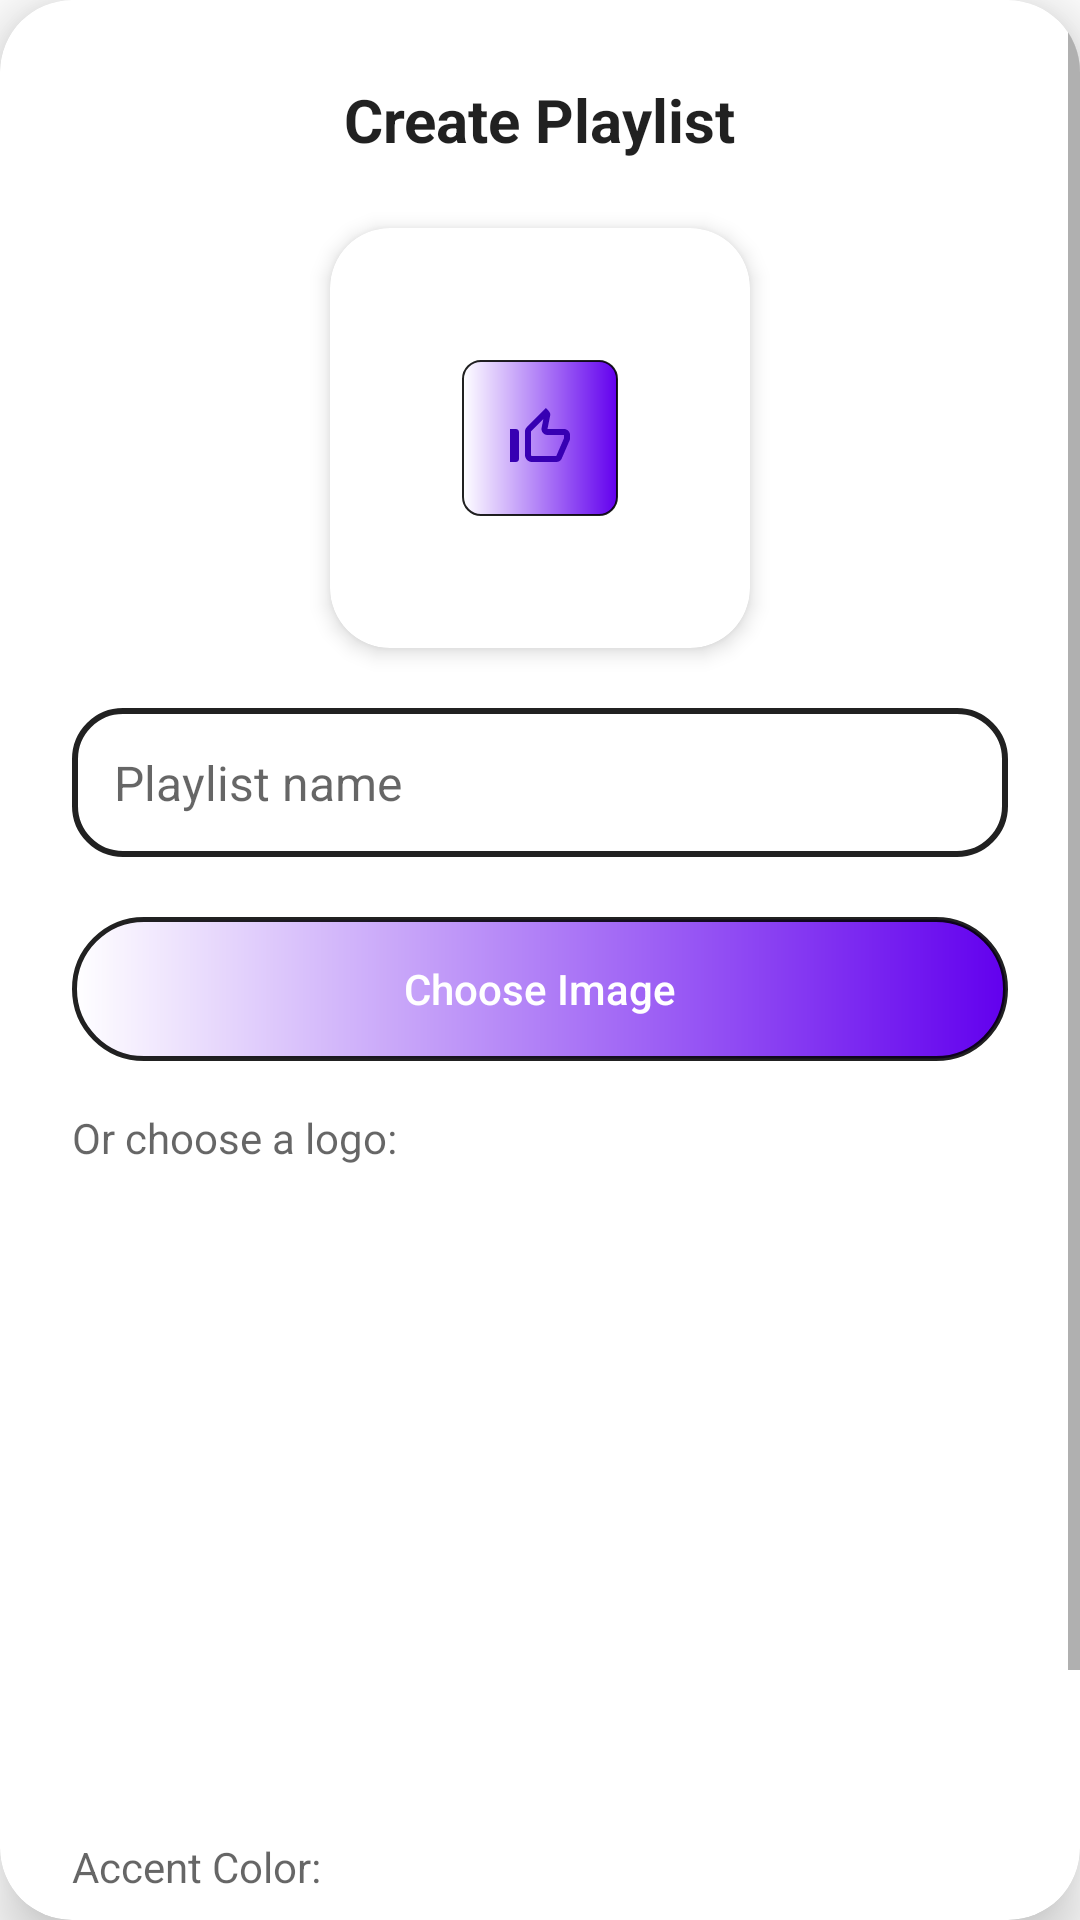

Icon bounding boxes for this 1080px x 1920px phone screenshot, format (x1, y1, x2, y2):
music bloc like: (462, 360, 618, 516)
